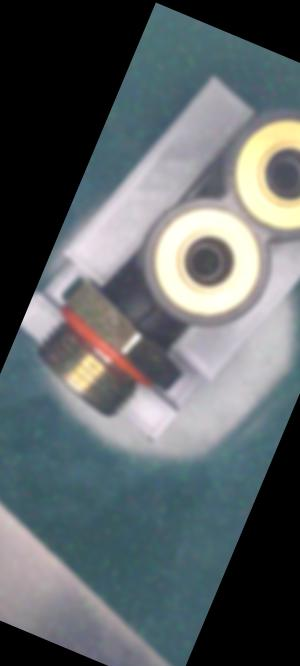craze: (132, 297, 162, 333)
